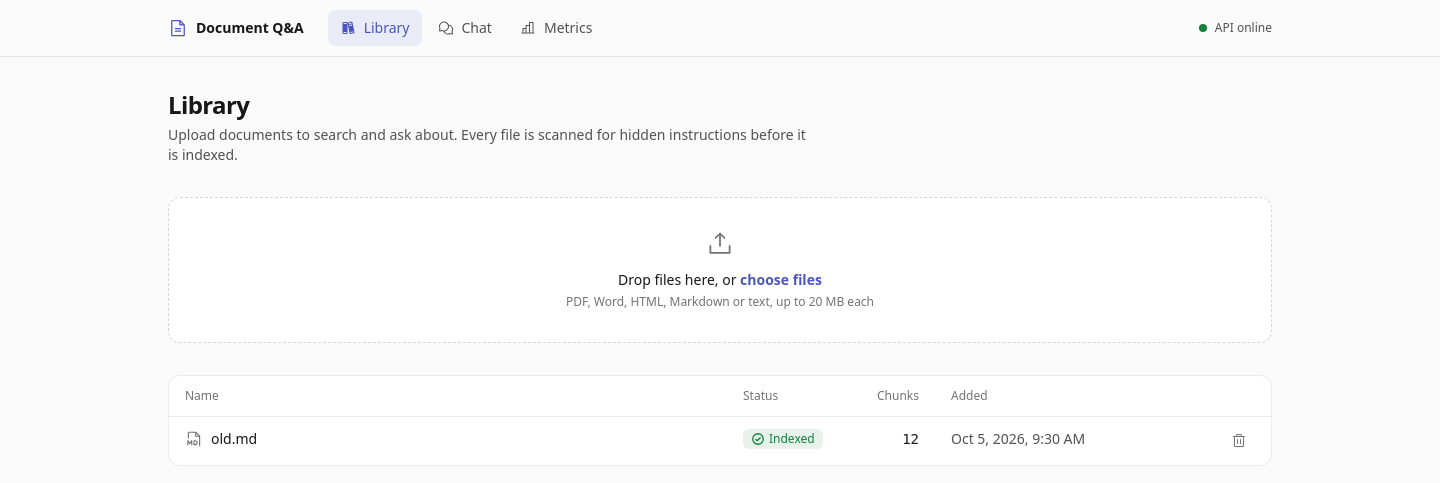
Test: delete › cancel keeps the document
This screenshot has width=1440, height=483.
What coordinates should you click on to do the following:
click the button named "Delete old.md"
I would click on:
 (1239, 441)
Its box is [1223,425,1255,457].
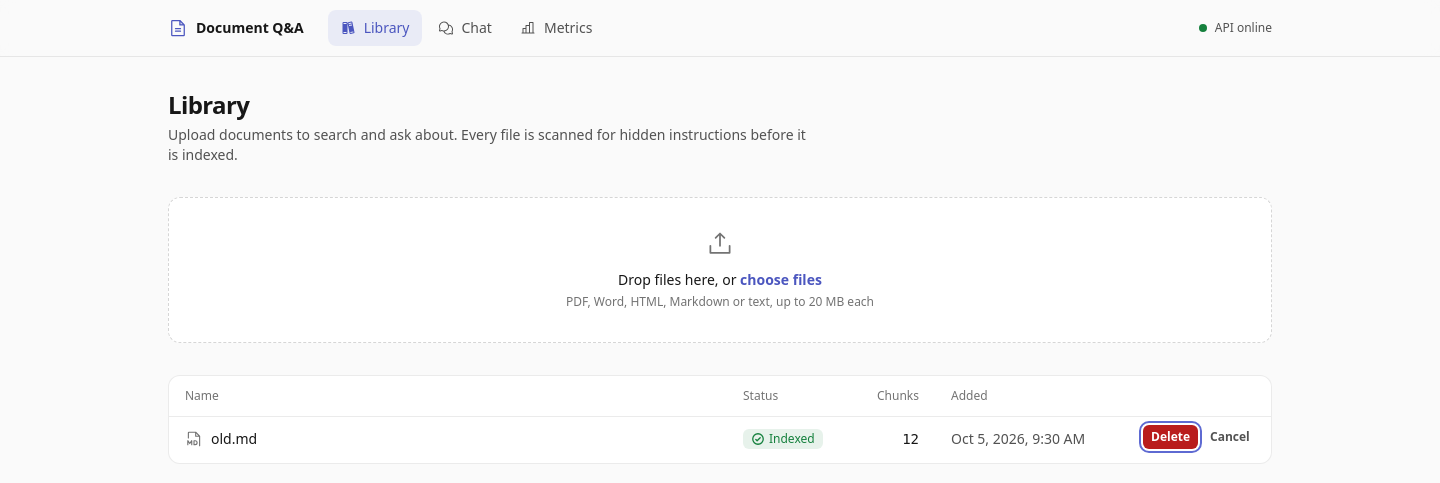
What coordinates should you click on to do the following:
click the button "Cancel"
I would click on:
 (1230, 437)
Its box is [1202,425,1258,449].
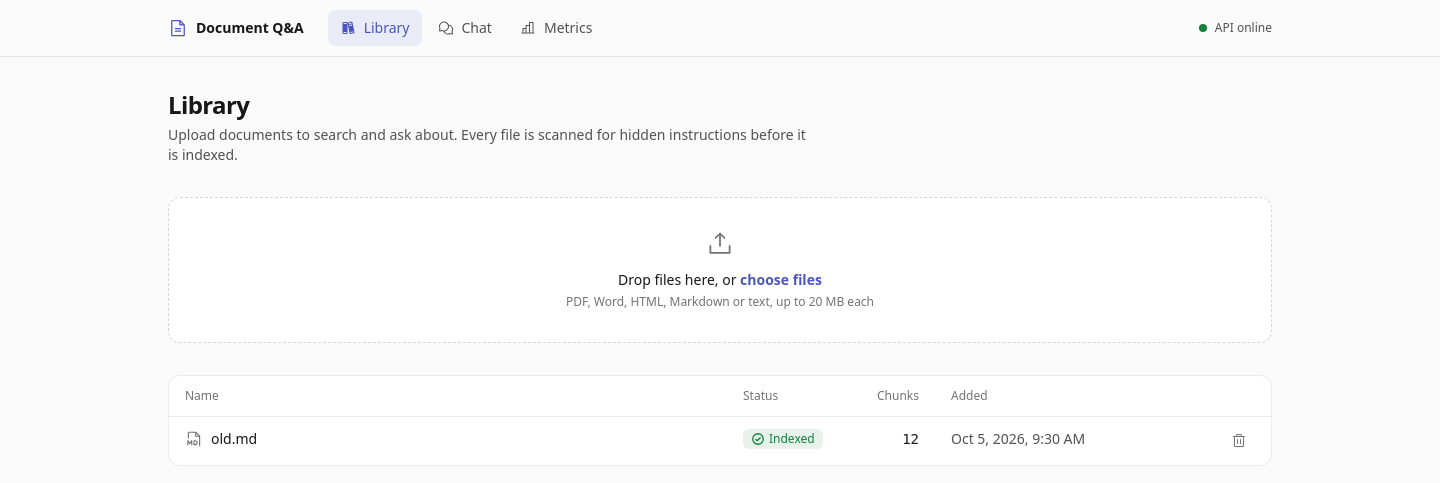
Now the button named "Delete old.md" is shown, box [1223,425,1255,457]
